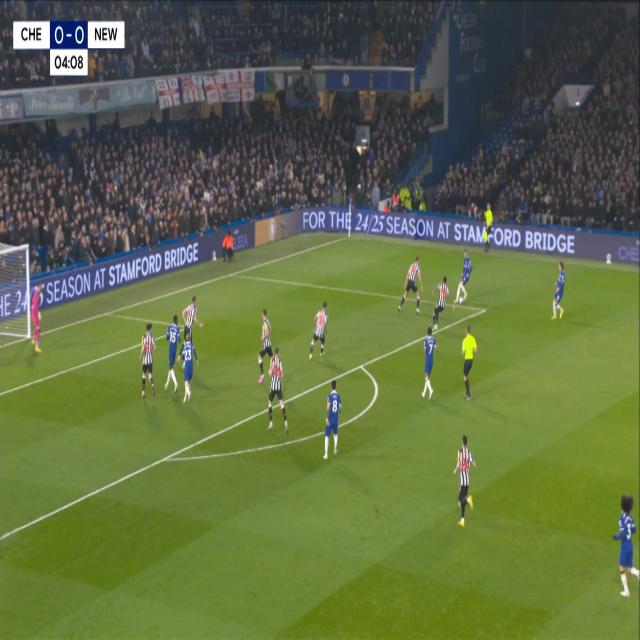Ball: (457, 292, 465, 308)
Chelsea: (610, 488, 639, 600), (321, 375, 344, 462), (176, 324, 200, 405), (162, 310, 183, 396), (419, 322, 440, 402), (452, 244, 474, 307), (549, 255, 568, 322)
New castle: (452, 431, 478, 531), (264, 342, 291, 438), (397, 252, 423, 320), (138, 319, 156, 401), (310, 300, 330, 362)
New castle keeper: (29, 280, 44, 354)
Refree: (459, 320, 479, 402)
